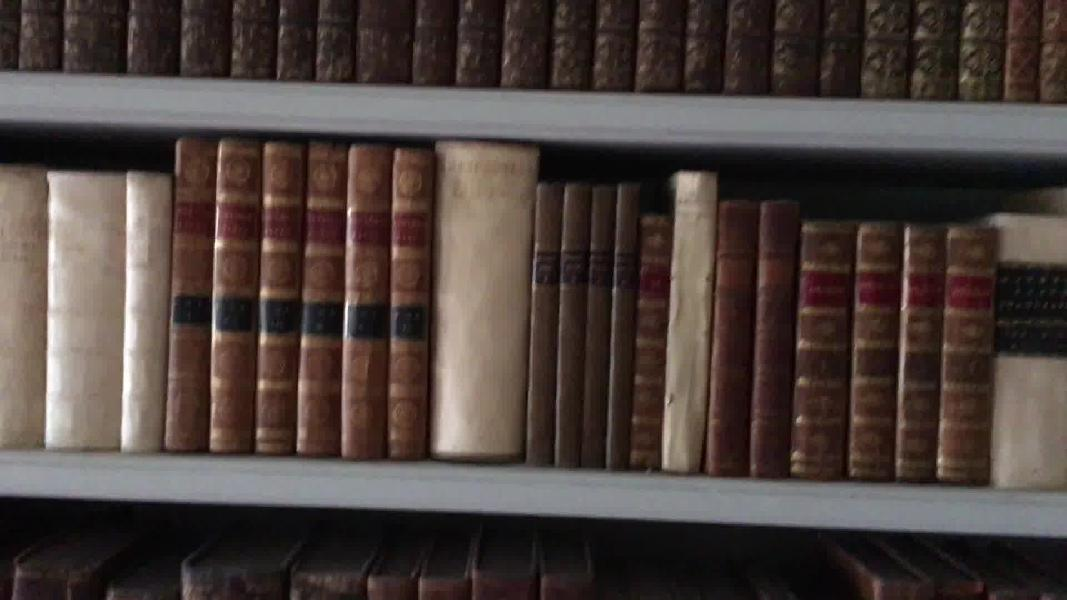Kk4-14: (434, 137, 529, 463)
Kk4-15_16: (533, 173, 586, 466)
Kk4-17_18: (591, 184, 633, 468)
Kk4-19: (633, 209, 672, 467)
Kk4-20: (664, 164, 713, 476)
Kk4-21_22: (706, 198, 800, 476)
Kk4-23_26: (792, 216, 997, 490)
Kk4-27: (997, 208, 1067, 491)
Kk4-3_7: (1, 163, 168, 452)
Kk4-8_13: (167, 132, 431, 453)
